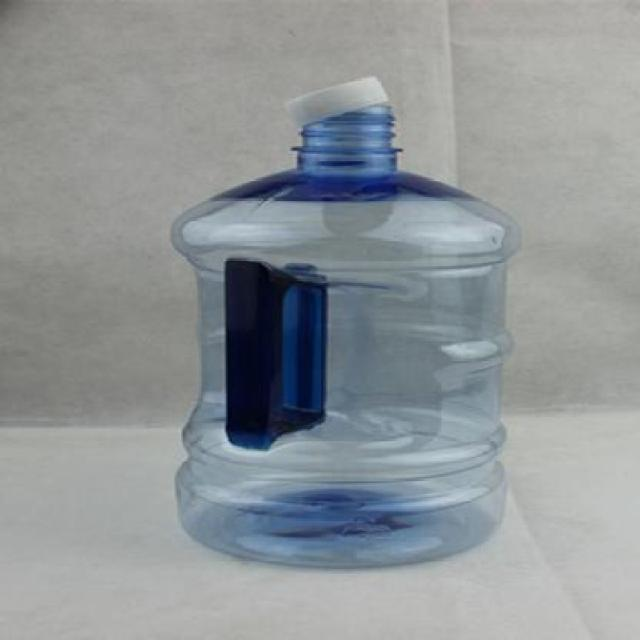coolerbottle: (162, 100, 528, 575)
